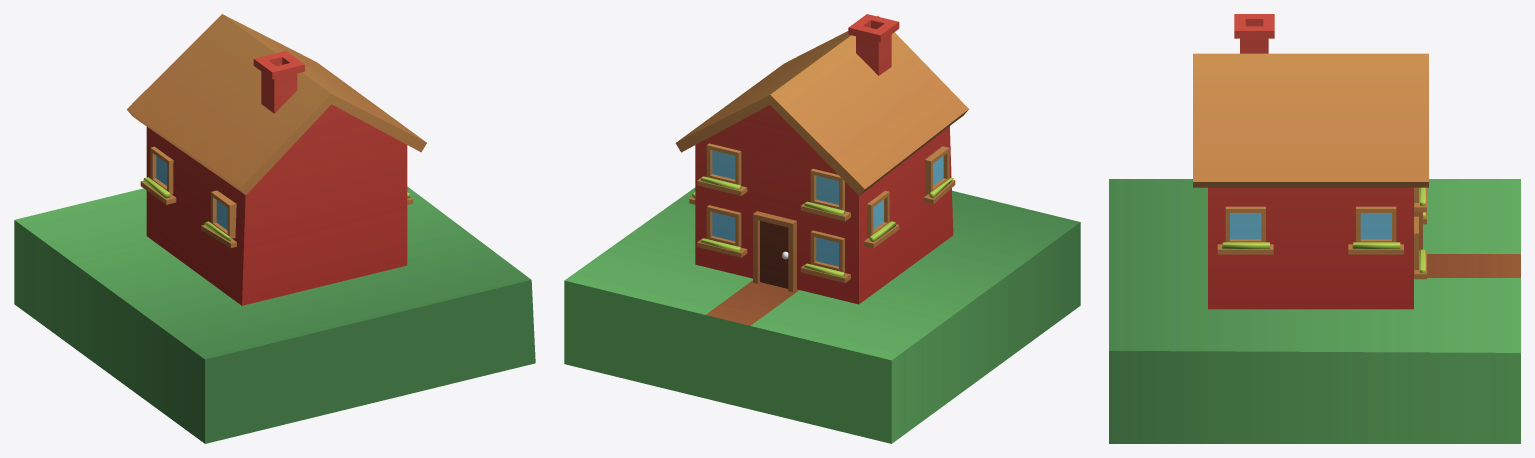
File: House.fbx
3 renders of one model, left to right at view 1: azimuth 30°, elevation 25°; view 2: azimuth 150°, elevation 25°; view 3: azimuth 270°, elevation 25°, orthographic. The views are drawn at different scales.
Visible parts, largest first — view 1: Cube.015; view 2: Cube.015; view 3: Cube.015.
Boxes of the visible parts, <box> form: Cube.015: <box>14,14,535,443</box>; Cube.015: <box>564,14,1080,443</box>; Cube.015: <box>1109,14,1520,443</box>.
Bounding box in the file's own units: 400 × 345 × 400.
